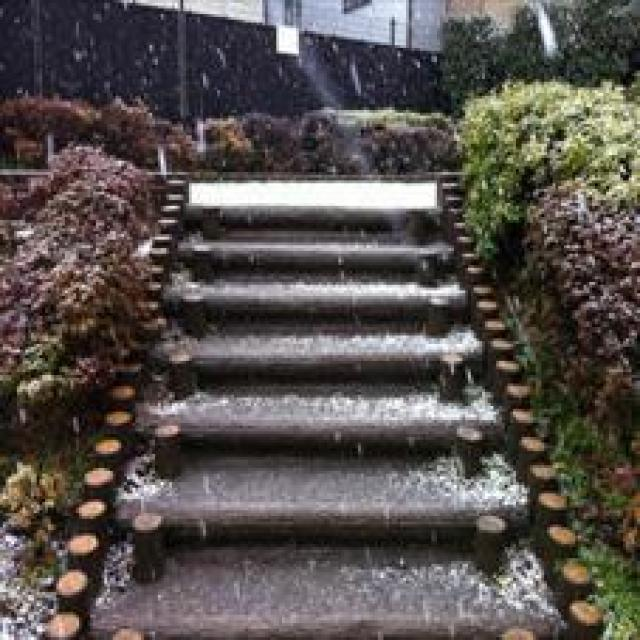upstair: (120, 415, 523, 630)
